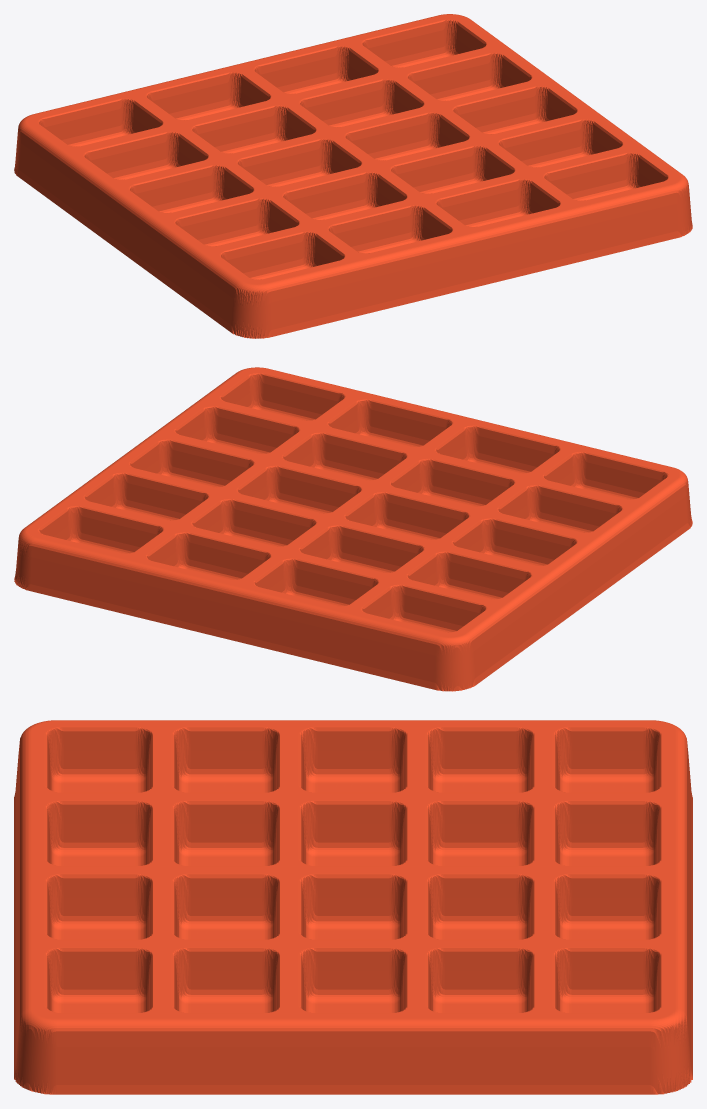
Rendered from mold.glb.
The picture shows the model from 3 angles, top to bottom: view 1: azimuth 30°, elevation 25°; view 2: azimuth 150°, elevation 25°; view 3: azimuth 270°, elevation 25°; orthographic projection. The views are drawn at different scales.
Parts seen in each view (by area): view 1: geometry_0; view 2: geometry_0; view 3: geometry_0.
Boxes of the visible parts, left/top/right/bottom form: geometry_0: left=14, top=14, right=692, bottom=338; geometry_0: left=14, top=367, right=692, bottom=691; geometry_0: left=14, top=720, right=692, bottom=1094.
Size of the model in its own units: 0.1563 by 0.0159 by 0.1435.
